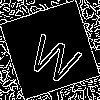W: (25, 25, 88, 87)
